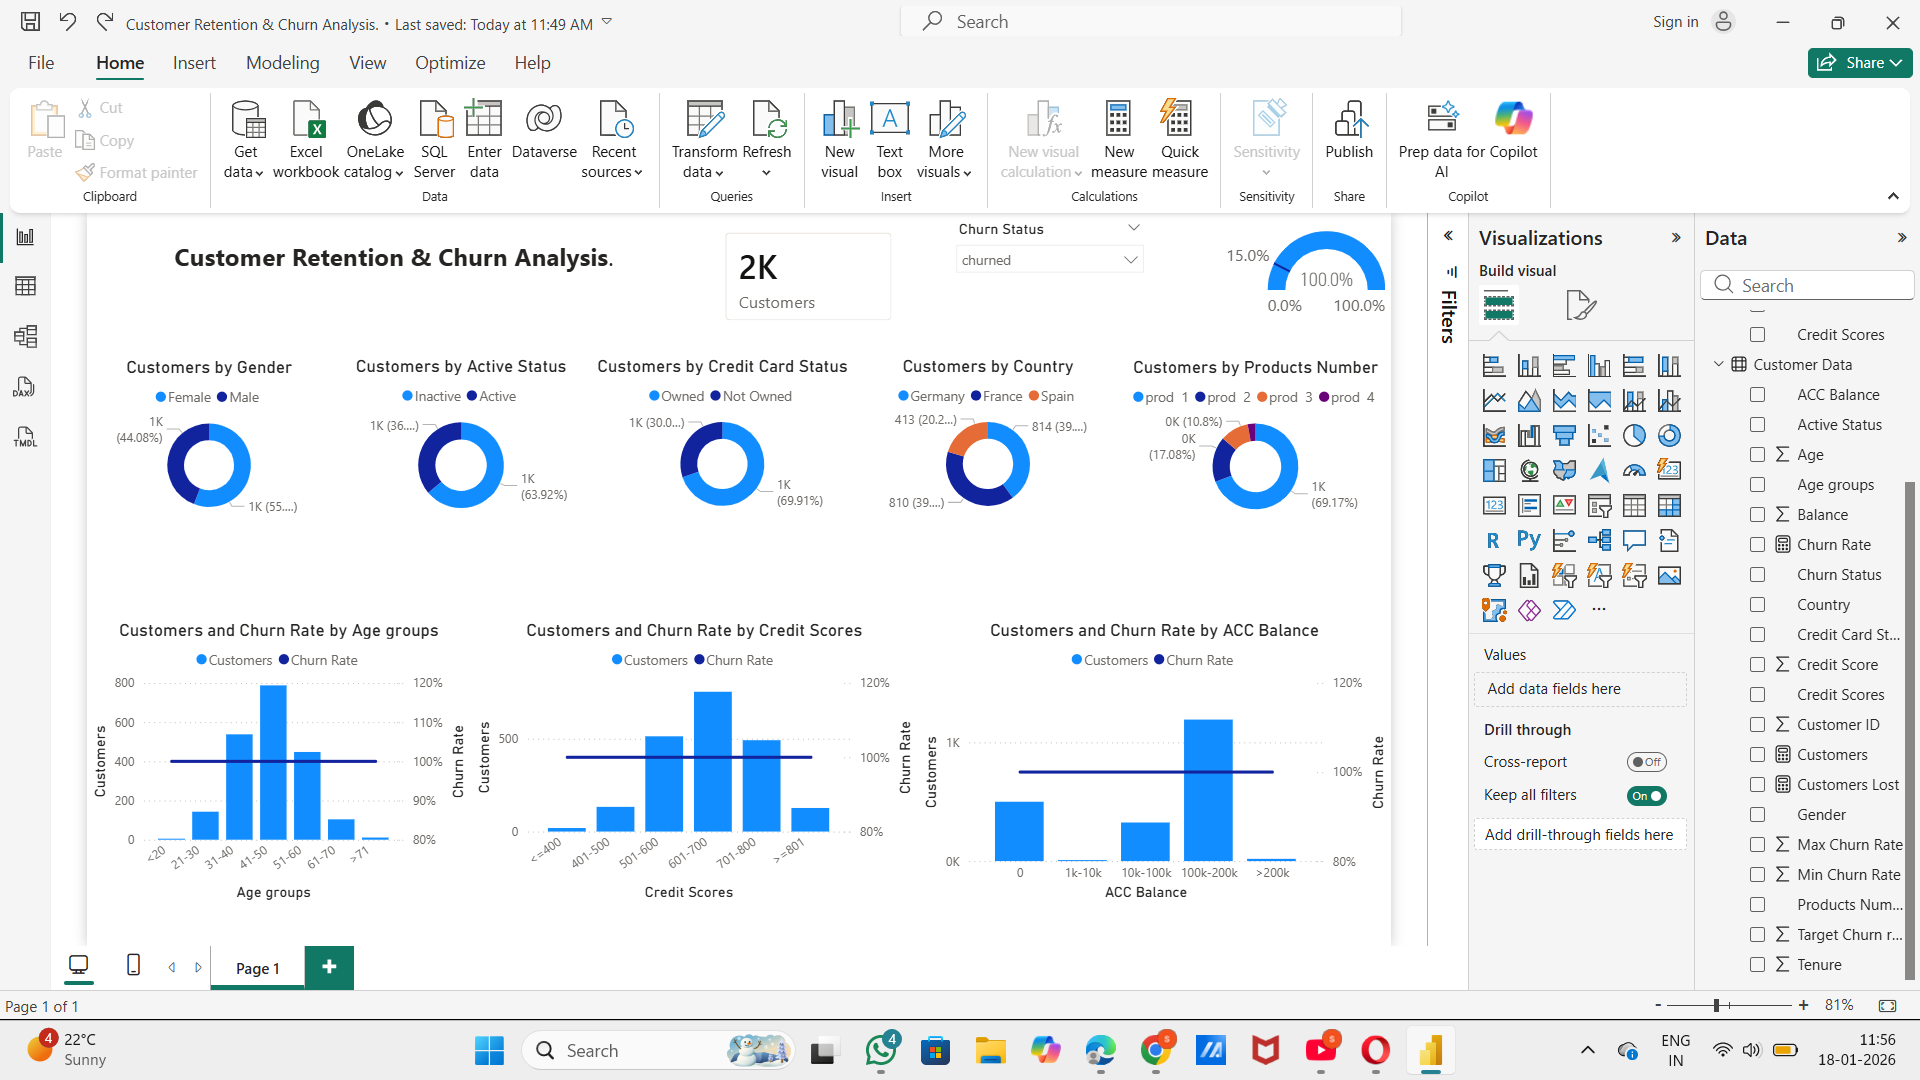

Layout of this report page (visuals, bound fields, positions):
{"tool":"powerbi","page":{"name":"Page 1","canvas":[1280,720],"ordinal":0},"visuals":[{"type":"cardVisual","fields":{"Data":["Customer Data.Customer"]},"box":[609.5,2.5,197.8,120.7],"z":0},{"type":"donutChart","fields":{"Category":["Customer Data.Gender"],"Y":["Customer Data.Customers"]},"box":[0,140.6,240.1,164.2],"z":1000},{"type":"donutChart","fields":{"Category":["Customer Data.Active Status"],"Y":["Customer Data.Customers"]},"box":[240.1,140.1,253.8,166.7],"z":2000},{"type":"donutChart","fields":{"Category":["Customer Data.Credit Card Status"],"Y":["Customer Data.Customers"]},"box":[493.9,140.1,261.2,164.2],"z":3000},{"type":"donutChart","fields":{"Category":["Customer Data.Country"],"Y":["Customer Data.Customers"]},"box":[755.1,140.1,260,164.2],"z":4000},{"type":"donutChart","fields":{"Y":["Customer Data.Customers"],"Category":["Customer Data.Products Number"]},"box":[1015.1,140.6,265,166.7],"z":5000},{"type":"lineStackedColumnComboChart","fields":{"Category":["Age goups.Age groups"],"Y":["Customer Data.Customers"],"Y2":["Customer Data.Churn Rate"]},"box":[0,399.3,376.9,281.1],"z":6000},{"type":"lineStackedColumnComboChart","fields":{"Y2":["Customer Data.Churn Rate"],"Y":["Customer Data.Customers"],"Category":["Credit Score groups.Credit Scores"]},"box":[376.9,399.3,439.1,281.1],"z":7000},{"type":"lineStackedColumnComboChart","fields":{"Category":["ACC Balance groups.ACC Balance"],"Y2":["Customer Data.Churn Rate"],"Y":["Customer Data.Customers"]},"box":[816,399.3,464,281.1],"z":8000},{"type":"slicer","fields":{"Values":["Customer Data.Churn Status"]},"box":[843.4,2.5,204,120.7],"z":9000},{"type":"gauge","fields":{"MinValue":["Min(Customer Data.Min Churn Rate)"],"MaxValue":["Max(Customer Data.Max Churn Rate)"],"TargetValue":["Max(Customer Data.Target Churn rate)"],"Y":["Customer Data.Churn Rate"]},"box":[1108.4,2.5,171.7,120.7],"z":10000},{"type":"textbox","box":[80.9,22.4,470.2,89.6],"z":10001}]}

Visuals, with their boxes on the page's 1280x720 design canvas (x1, y1, x2, y2). These are canvas units, not pixel positions in the 1920x1080 screenshot, which may show the page scaled, cropped or inside an application window:
cardVisual - Customer Data.Customer: select_region(610, 2, 807, 123)
donutChart - Customer Data.Gender x Customer Data.Customers: select_region(0, 141, 240, 305)
donutChart - Customer Data.Active Status x Customer Data.Customers: select_region(240, 140, 494, 307)
donutChart - Customer Data.Credit Card Status x Customer Data.Customers: select_region(494, 140, 755, 304)
donutChart - Customer Data.Country x Customer Data.Customers: select_region(755, 140, 1015, 304)
donutChart - Customer Data.Customers x Customer Data.Products Number: select_region(1015, 141, 1280, 307)
lineStackedColumnComboChart - Age goups.Age groups x Customer Data.Customers: select_region(0, 399, 377, 680)
lineStackedColumnComboChart - Customer Data.Churn Rate x Customer Data.Customers: select_region(377, 399, 816, 680)
lineStackedColumnComboChart - ACC Balance groups.ACC Balance x Customer Data.Churn Rate: select_region(816, 399, 1280, 680)
slicer - Customer Data.Churn Status: select_region(843, 2, 1047, 123)
gauge - Min(Customer Data.Min Churn Rate) x Max(Customer Data.Max Churn Rate): select_region(1108, 2, 1280, 123)
textbox: select_region(81, 22, 551, 112)
